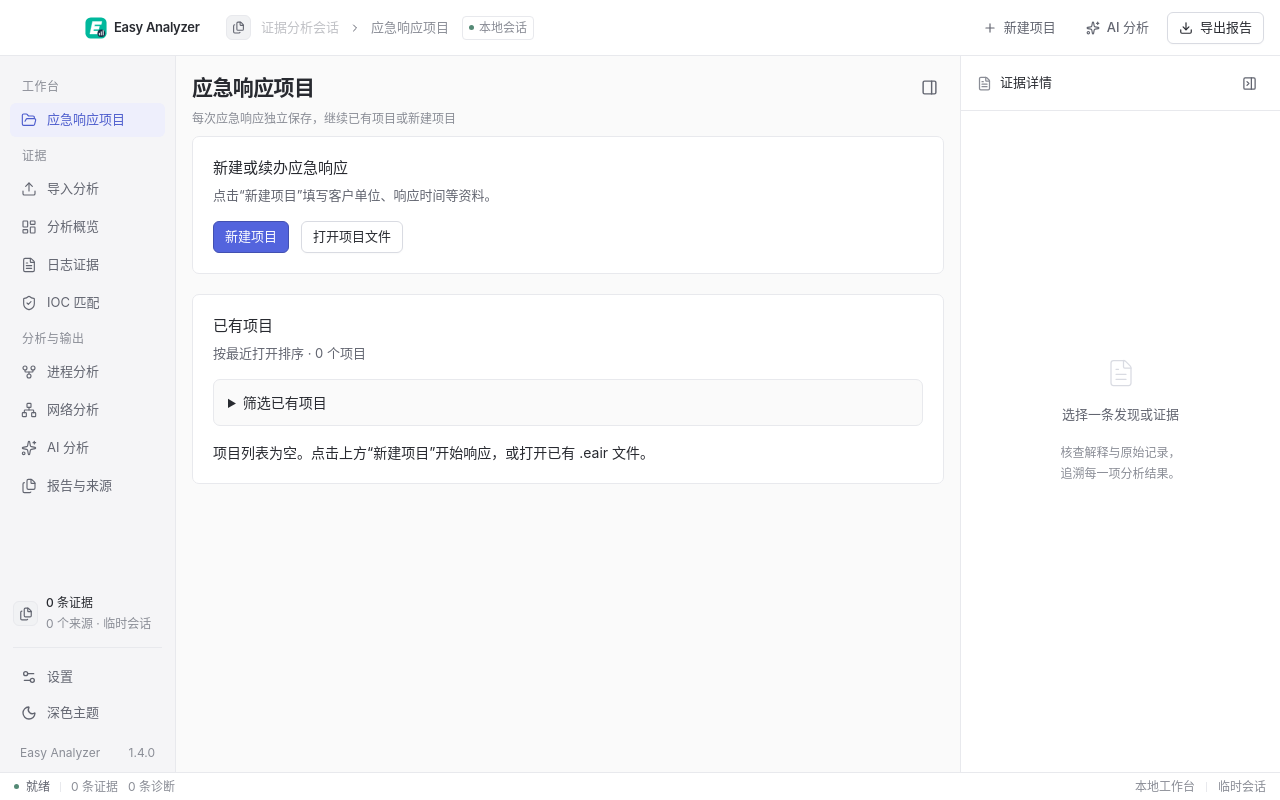
evidence references locate records and return restores the original finding
The width and height of the screenshot is (1280, 800).
Click the button "分析概览". click: (88, 227)
box: [10,210,165,244]
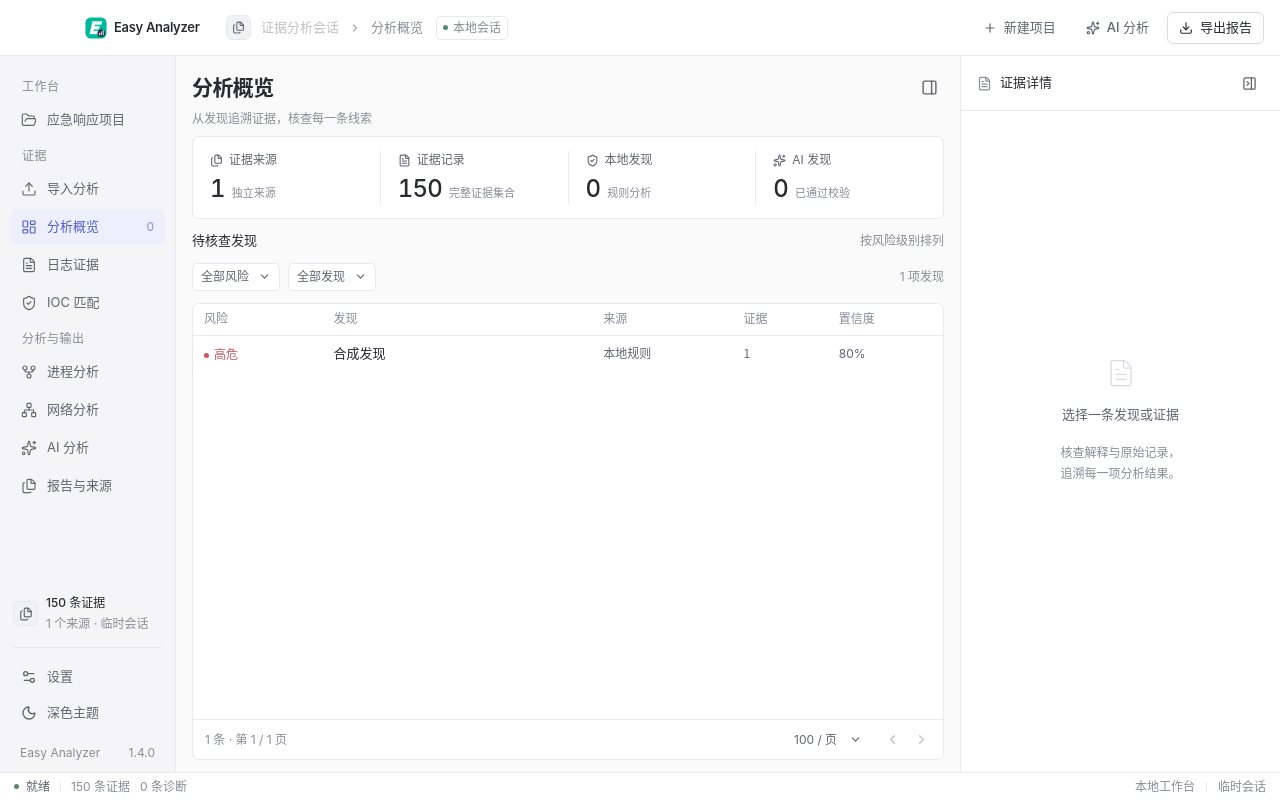
Expected: the text "合成发现" is shown
Click the text "合成发现". click: (360, 353)
box: [334,345,386,361]
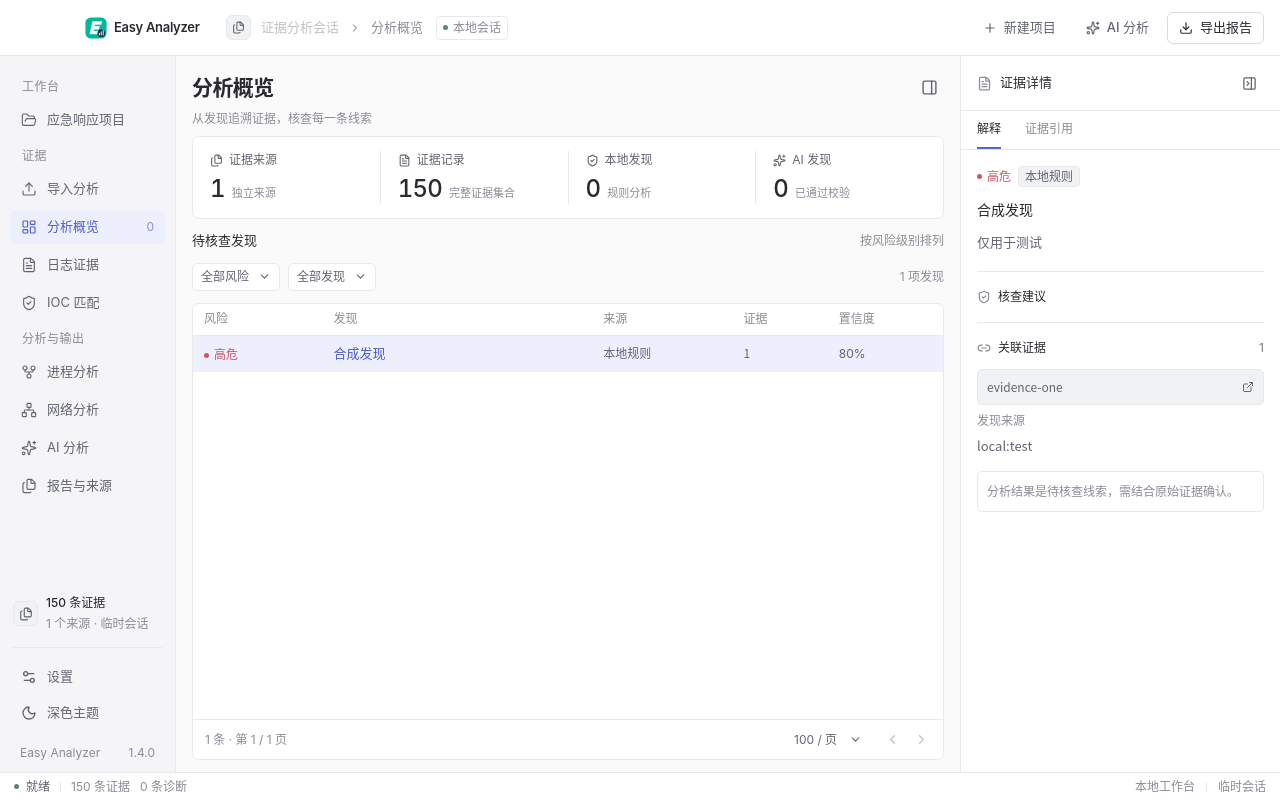
Click the button "evidence-one". click: (1025, 386)
box: [977,369,1264,405]
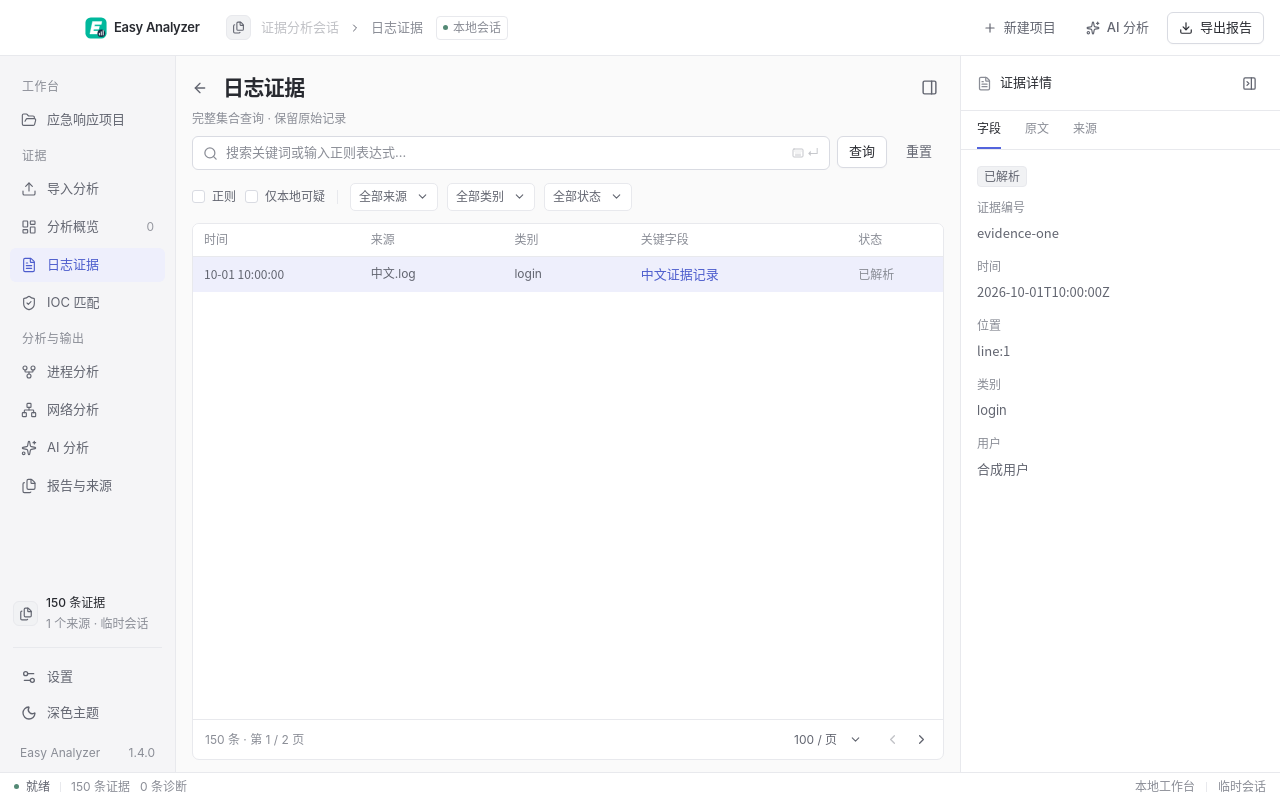
Expected: the button named "返回原视图" is shown
Click the button named "返回原视图". click: (200, 88)
box: [185,73,215,103]
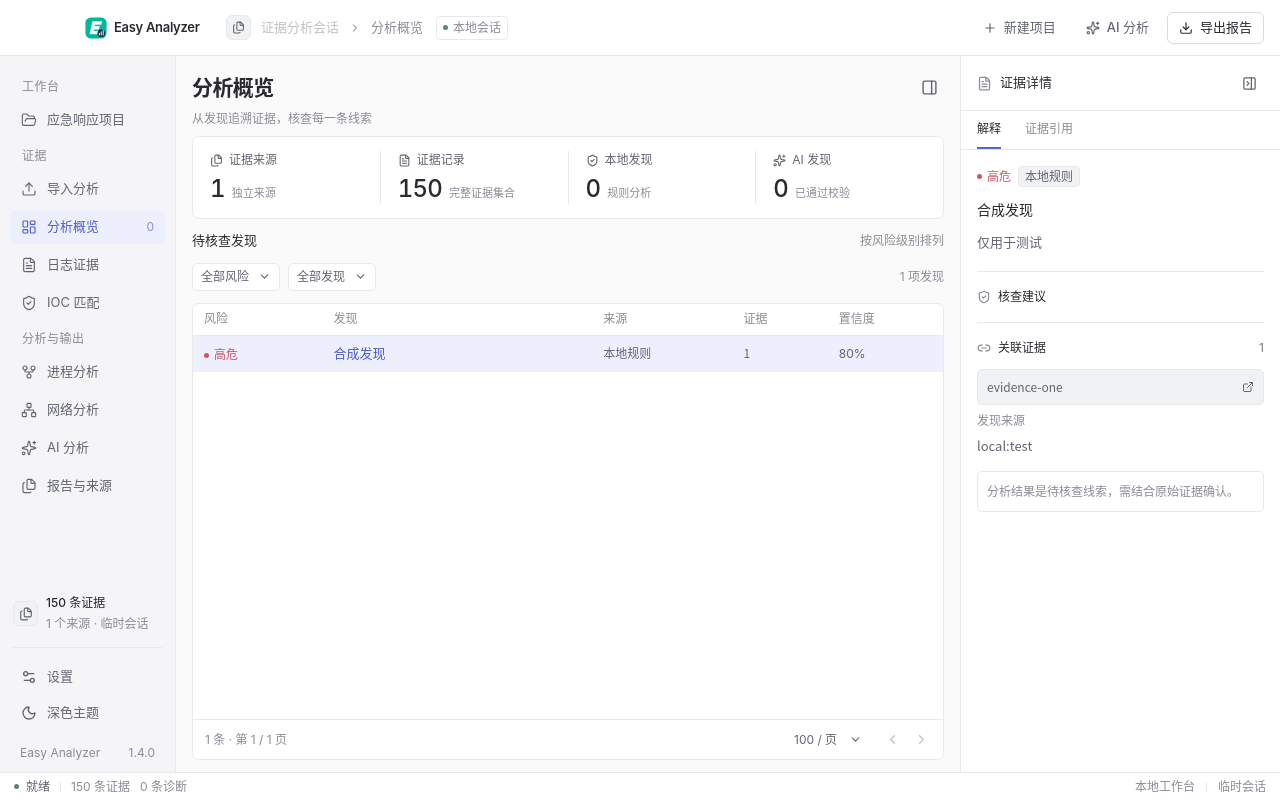
Expected: the heading "合成发现" is shown, [977,201,1033,218]
Expected: the heading "分析概览" is shown, [192,72,274,104]
